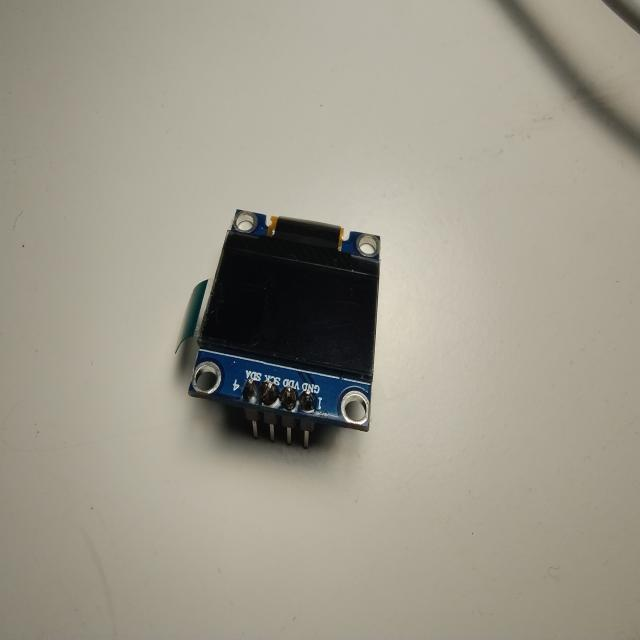oled: (172, 184, 388, 466)
